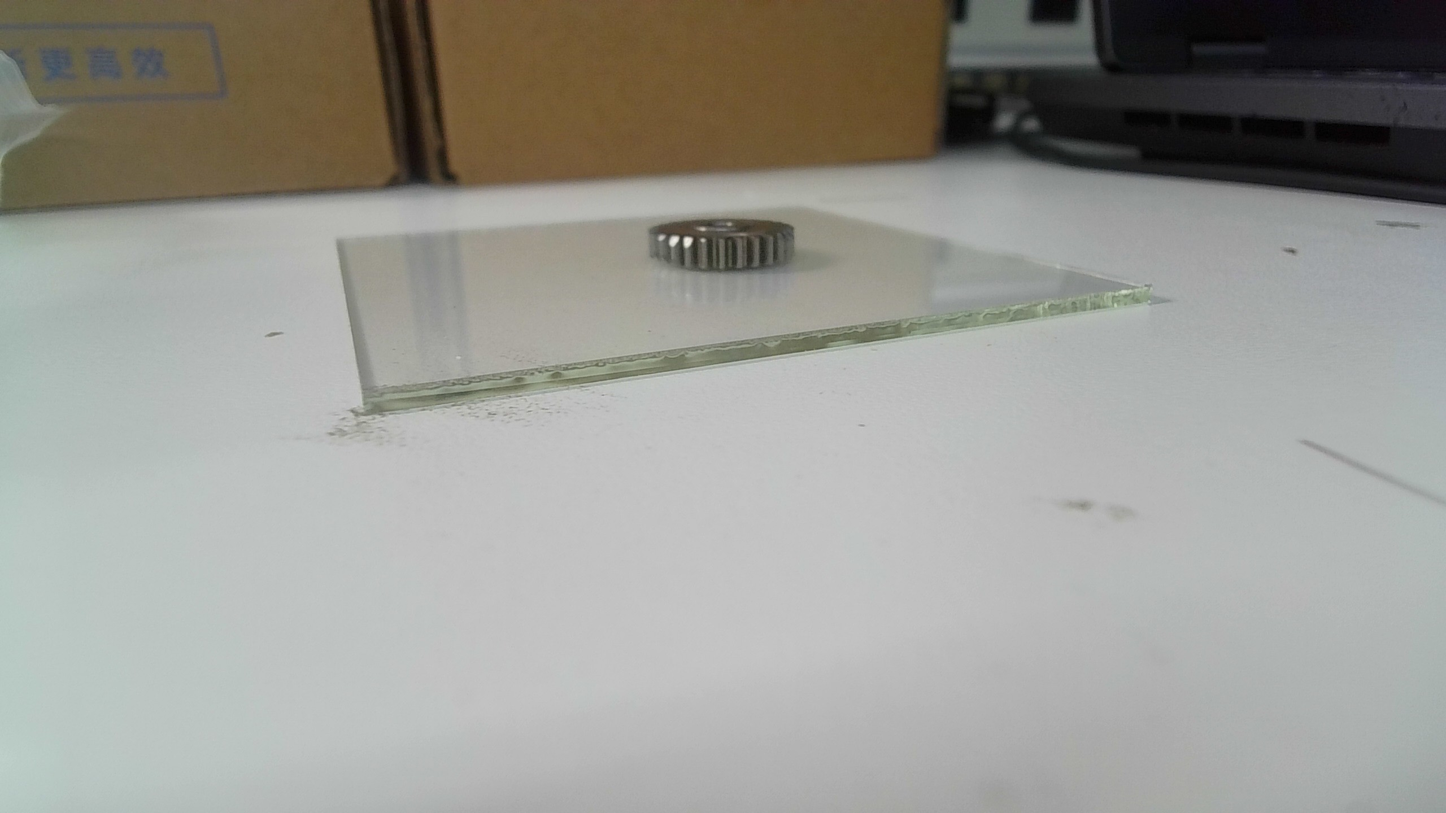gear: (643, 211, 812, 281)
